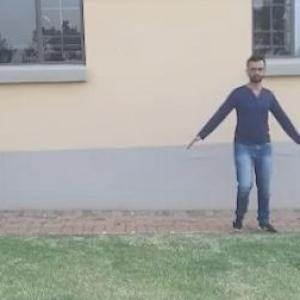land: (193, 57, 299, 231)
